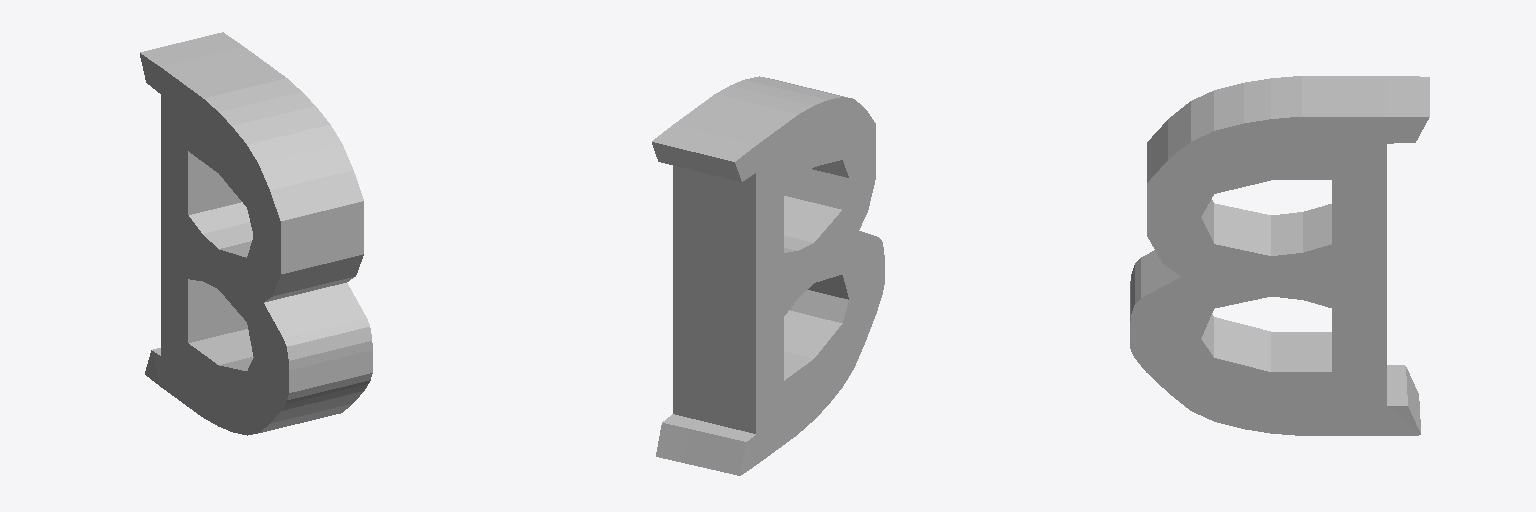
Rendered from letter9.obj.
3 renders of one model, left to right at view 1: azimuth 30°, elevation 25°; view 2: azimuth 150°, elevation 25°; view 3: azimuth 270°, elevation 25°, orthographic.
Parts seen in each view (by area): view 1: pCube1; view 2: pCube1; view 3: pCube1.
Part boxes in pixels (left/top/right/bottom): pCube1: left=140, top=32, right=372, bottom=435; pCube1: left=652, top=76, right=884, bottom=475; pCube1: left=1130, top=76, right=1429, bottom=435.
Bounding box in the file's own units: 1 × 3.65 × 3.1.